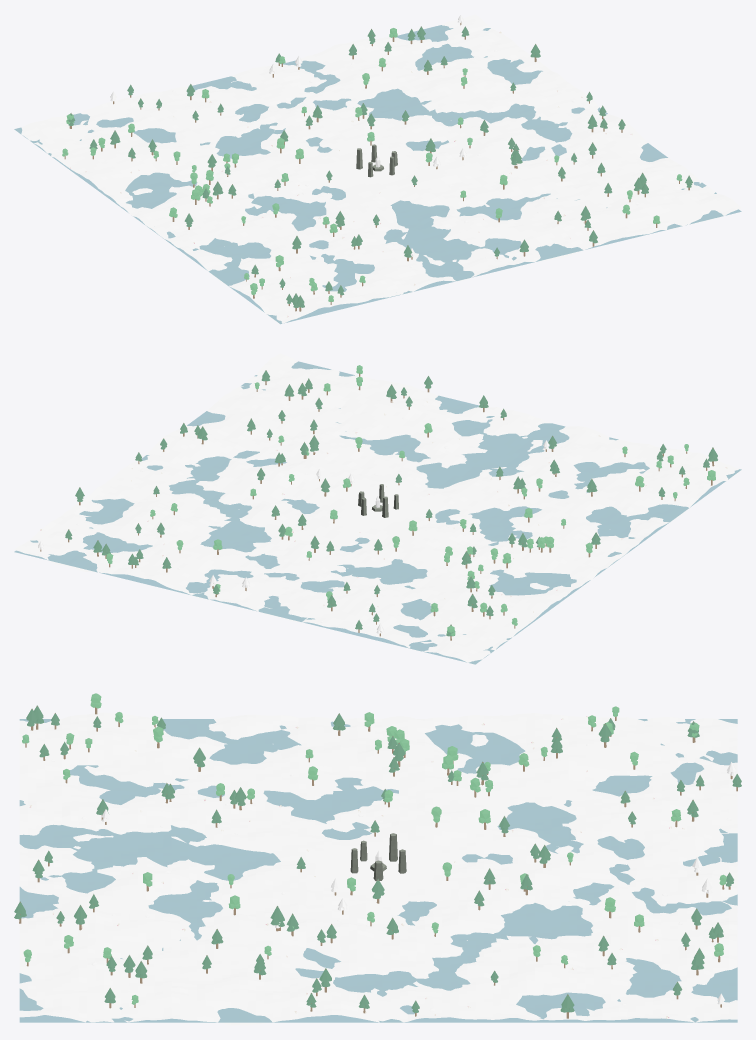
The model's file is map_forest.glb.
3 views of the same model, one above another, from view 1: azimuth 30°, elevation 25°; view 2: azimuth 150°, elevation 25°; view 3: azimuth 270°, elevation 25° (orthographic). The views are drawn at different scales.
Visible parts, largest first — view 1: Forest_Ground, Forest_Water, Forest_GroveShrine; view 2: Forest_Ground, Forest_Water, Forest_GroveShrine; view 3: Forest_Ground, Forest_Water, Forest_GroveShrine.
Part boxes in pixels (bbox=[...]): Forest_Ground: bbox=[15, 14, 741, 324]; Forest_Water: bbox=[14, 25, 741, 323]; Forest_GroveShrine: bbox=[356, 144, 397, 177]; Forest_Ground: bbox=[14, 353, 741, 664]; Forest_Water: bbox=[14, 361, 741, 664]; Forest_GroveShrine: bbox=[358, 484, 398, 517]; Forest_Ground: bbox=[14, 693, 741, 1025]; Forest_Water: bbox=[19, 719, 737, 1022]; Forest_GroveShrine: bbox=[350, 833, 406, 881].
Size of the model in its own units: 129 by 7.23 by 130.
11 materials, 4 textured.
